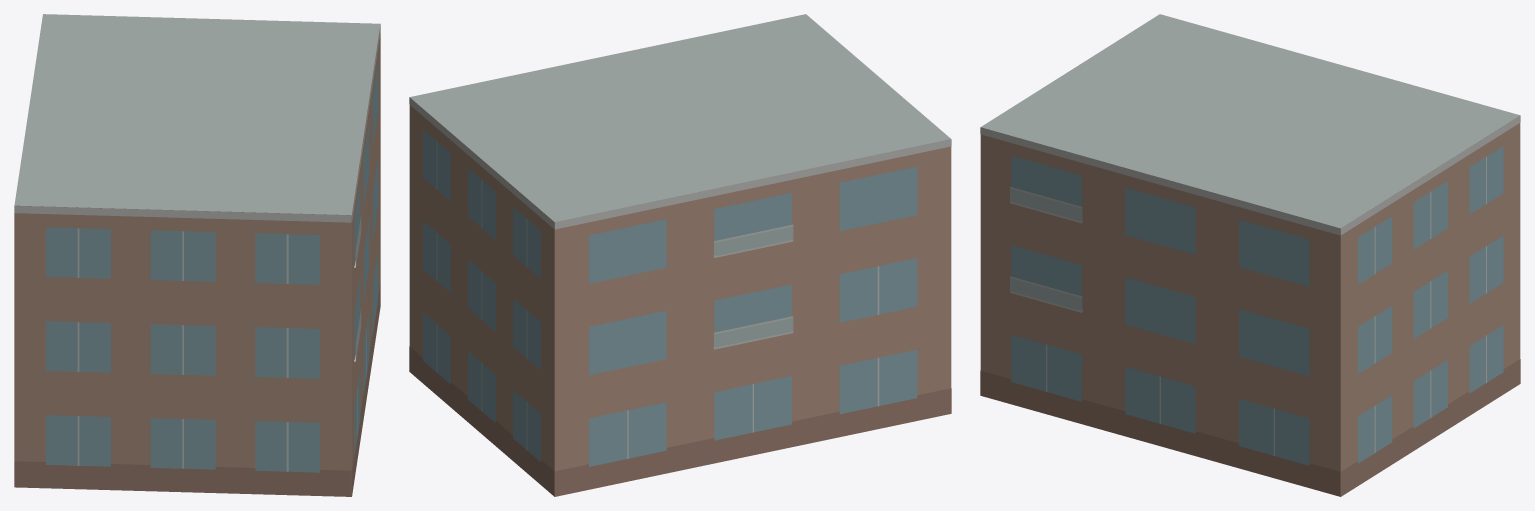
The model's file is survey-upis-32703959.glb.
3 renders of one model, left to right at view 1: azimuth 30°, elevation 25°; view 2: azimuth 150°, elevation 25°; view 3: azimuth 270°, elevation 25°, orthographic. The views are drawn at different scales.
Parts seen in each view (by area): view 1: survey-upis-32703959.tmp; view 2: survey-upis-32703959.tmp; view 3: survey-upis-32703959.tmp.
Boxes of the visible parts, x1,y1,x2,y2 form: survey-upis-32703959.tmp: (14,14,380,496); survey-upis-32703959.tmp: (409,14,951,496); survey-upis-32703959.tmp: (980,14,1520,496).
Bounding box in the file's own units: 15.68 × 9.15 × 16.69.
